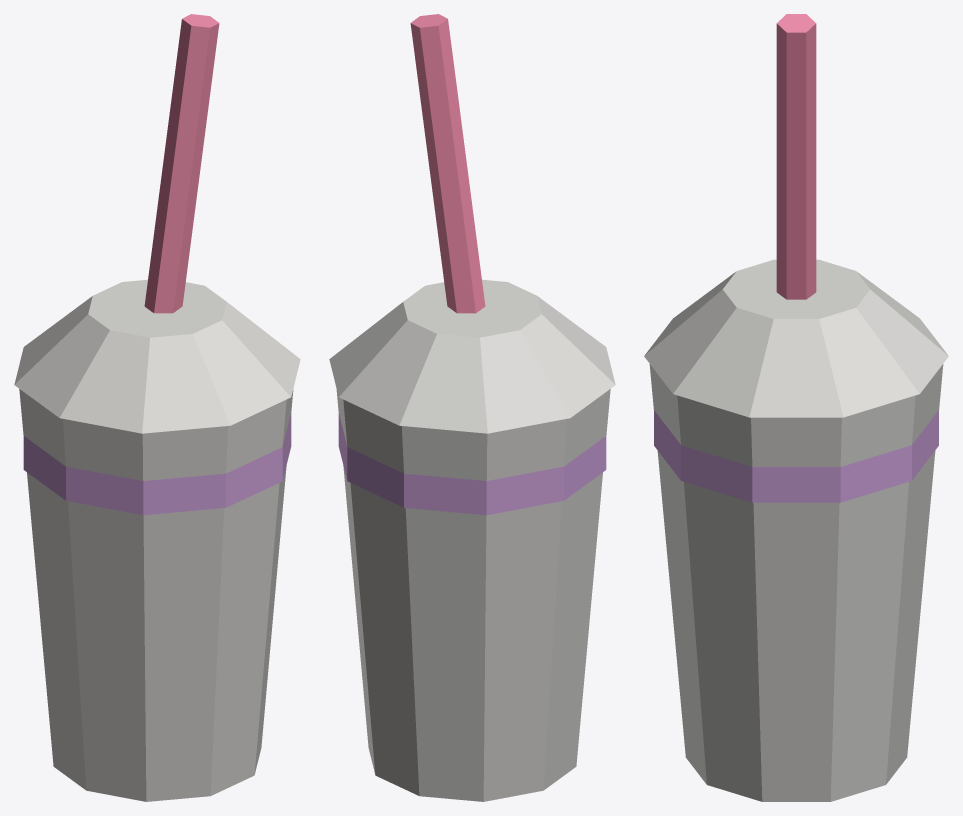
Rendered from ShakeCup.fbx.
3 renders of one model, left to right at view 1: azimuth 30°, elevation 25°; view 2: azimuth 150°, elevation 25°; view 3: azimuth 270°, elevation 25°, orthographic. The views are drawn at different scales.
Parts seen in each view (by area): view 1: ShakeCup; view 2: ShakeCup; view 3: ShakeCup.
Part boxes in pixels (x1,y1,x2,y2): ShakeCup: [14, 14, 300, 801]; ShakeCup: [329, 14, 615, 801]; ShakeCup: [644, 14, 948, 801].
Bounding box in the file's own units: 0.1179 × 0.3402 × 0.124.
